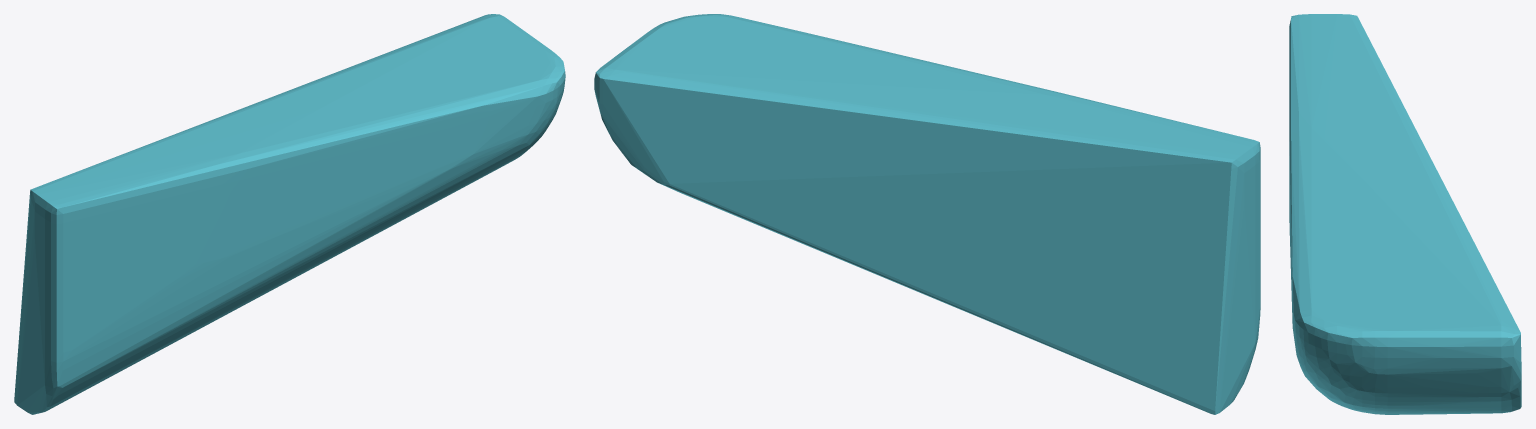
File: left-toe-A-0_part_2.obj
3 views of the same model, side by side, from view 1: azimuth 30°, elevation 25°; view 2: azimuth 150°, elevation 25°; view 3: azimuth 270°, elevation 25° (orthographic). The views are drawn at different scales.
Size of the model in its own units: 0.0455 by 0.0184 by 0.0137.
